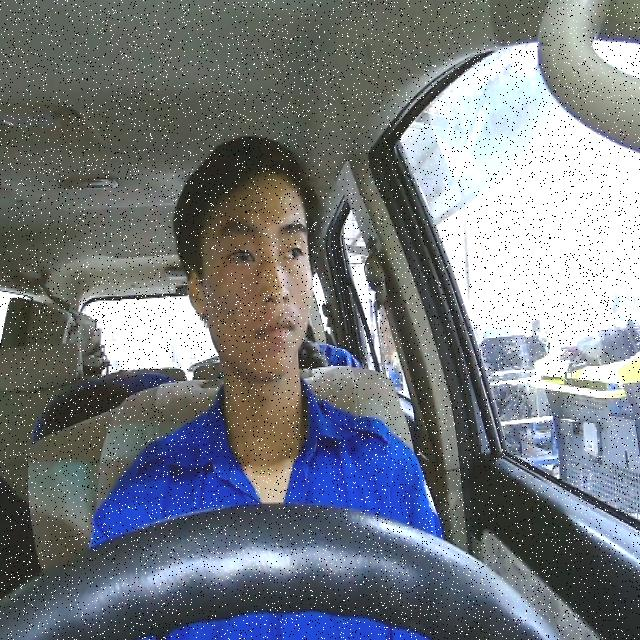seeing_right: (184, 171, 314, 381)
